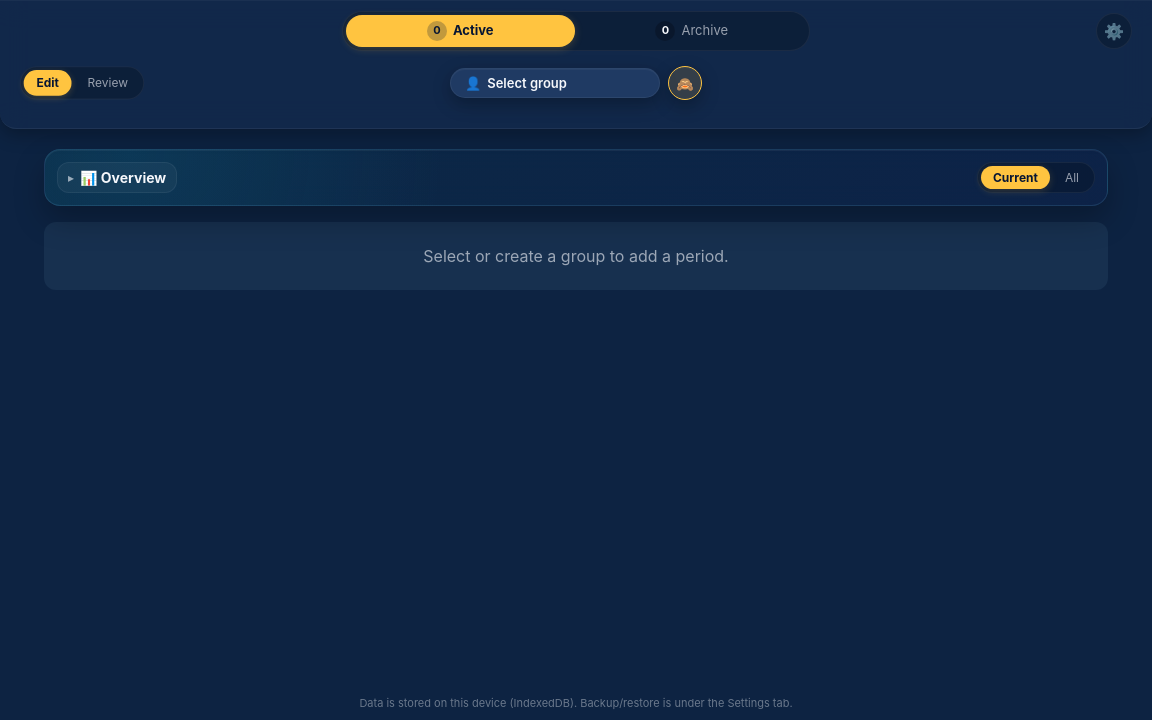
Test case: Settings — defaults, currency display, destructive-action confirmation, clear data › the currency picker is our own modal (not a native <select>), and closes on Cancel or tapping outside without changing anything
This screenshot has width=1152, height=720.
Expected: the button "👤 Select group" is shown, x1=450 y1=68 x2=660 y2=98
Step 1. Click the tab named "Settings" → point(1114, 31), box x1=1096 y1=13 x2=1132 y2=49
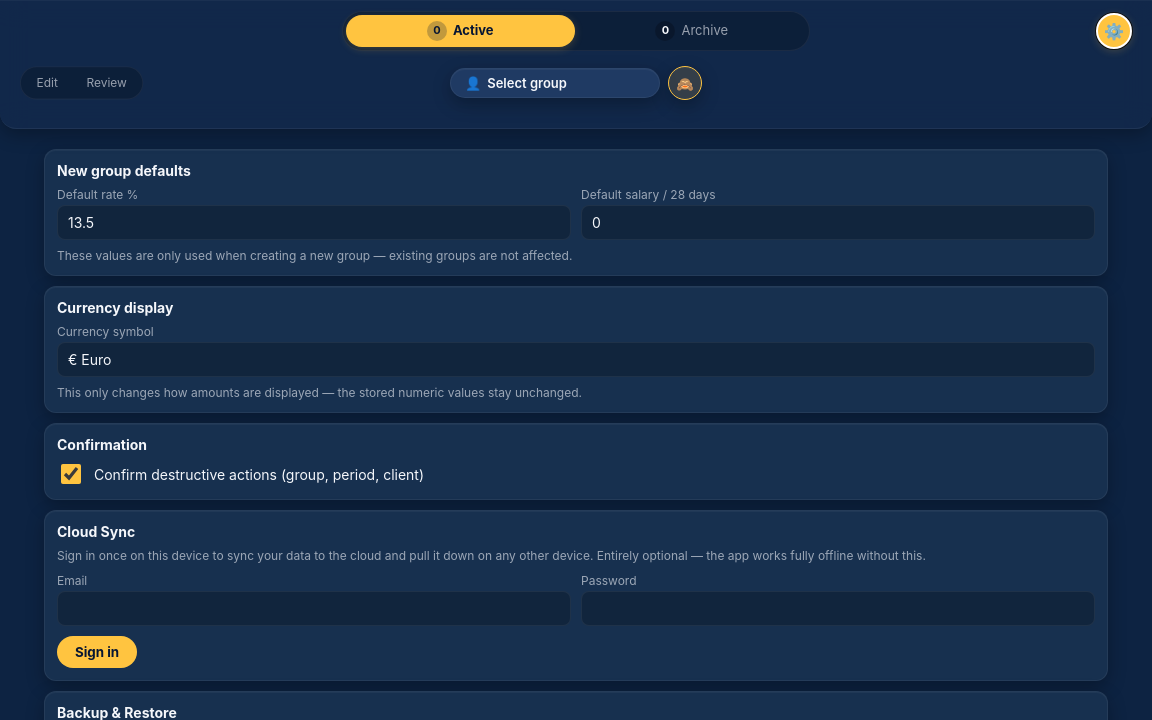
Step 2. Click the button "€ Euro" → point(90, 360), box x1=57 y1=342 x2=1095 y2=377
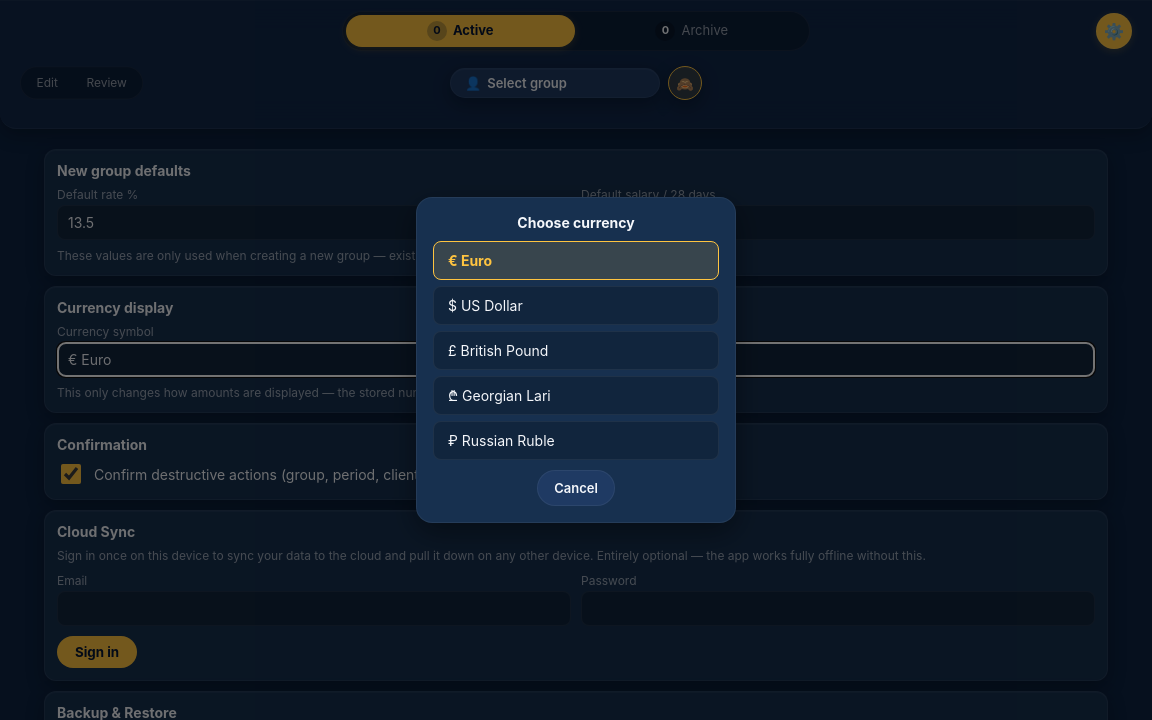
Expected: the number of buttons "€ Euro" is 5, x1=433 y1=241 x2=719 y2=280; x1=433 y1=286 x2=719 y2=325; x1=433 y1=331 x2=719 y2=370; x1=433 y1=376 x2=719 y2=415; x1=433 y1=421 x2=719 y2=460
Step 3. Click the button "Cancel" → point(576, 488), box x1=537 y1=470 x2=615 y2=506
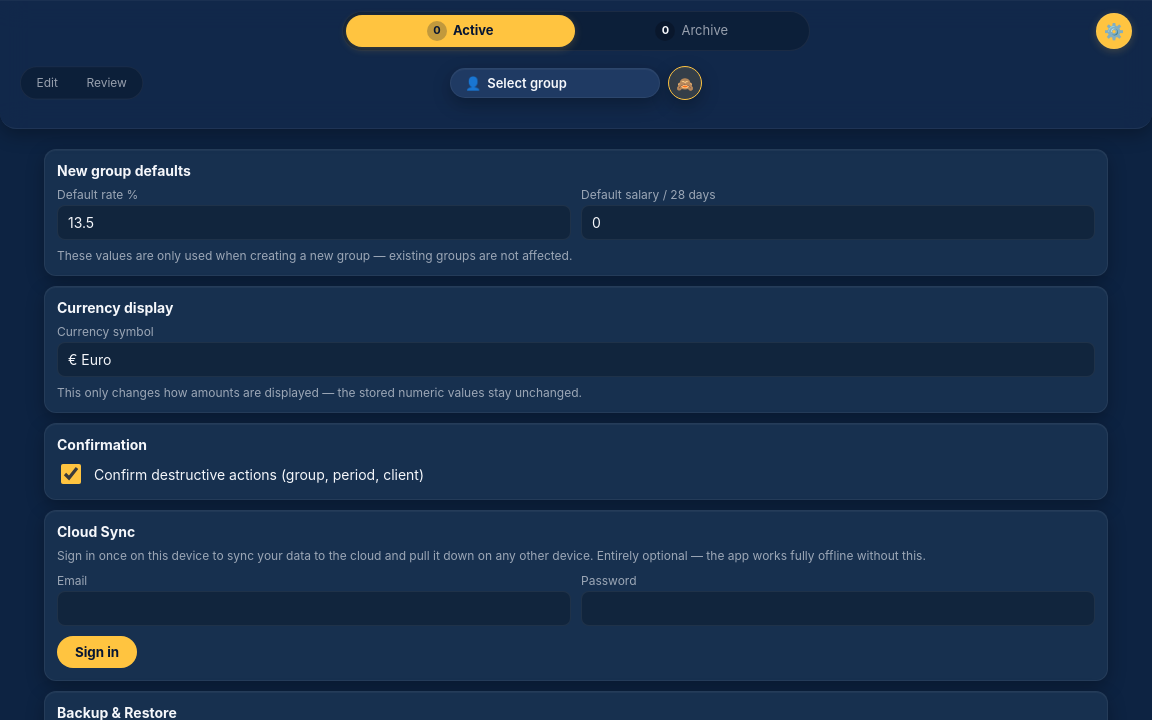
Expected: the button "€ Euro" is shown
Expected: the text "Choose currency" is gone
Step 4. Click the button "€ Euro" → point(90, 360), box x1=57 y1=342 x2=1095 y2=377
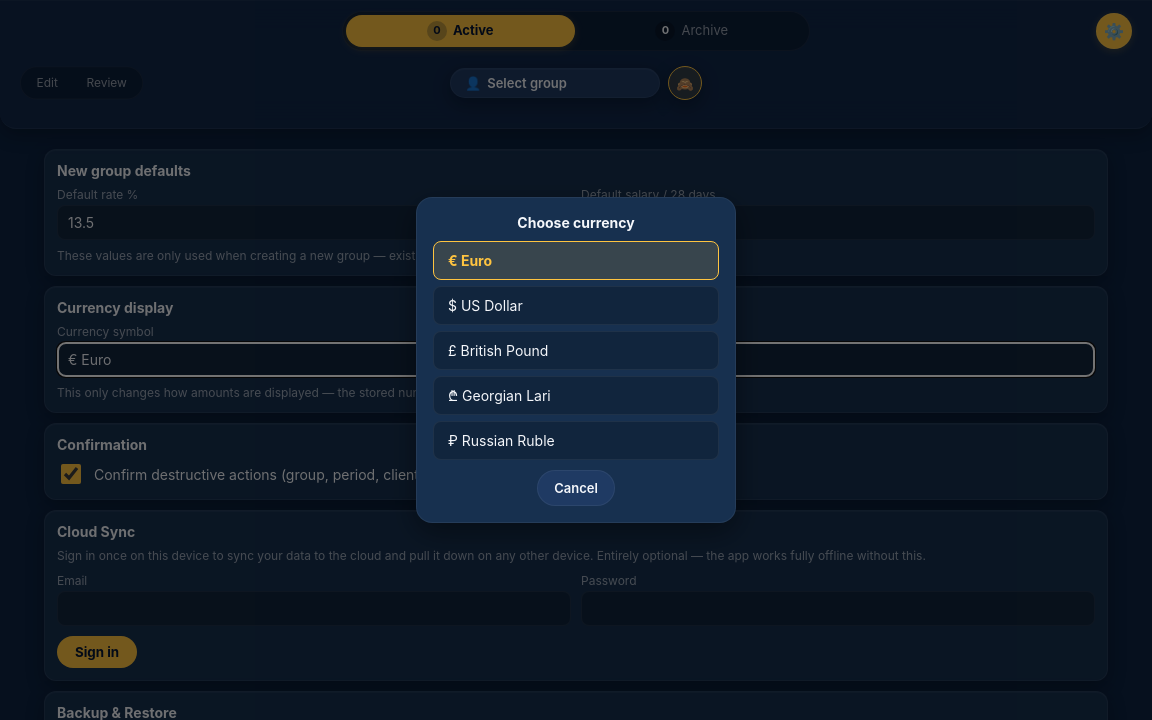
Step 5. Click the text "Choose currency" → point(69, 360), box x1=0 y1=0 x2=1151 y2=719
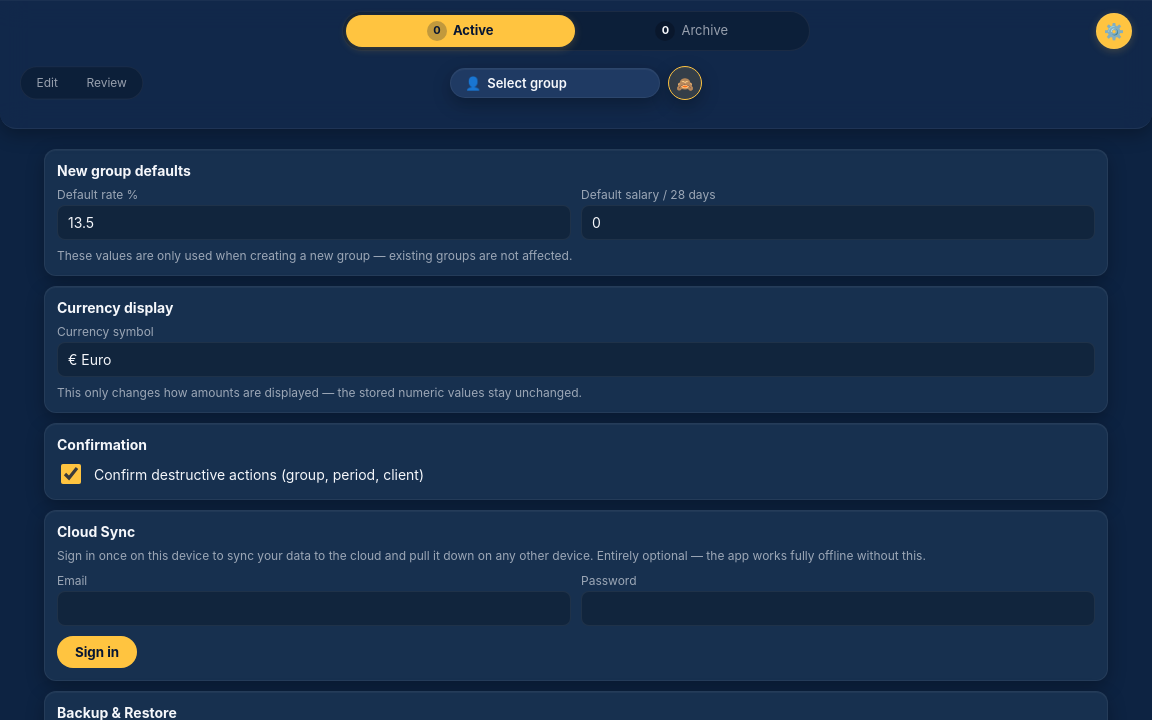
Expected: the button "€ Euro" is shown, x1=57 y1=342 x2=1095 y2=377
Expected: the button "Cancel" is gone
